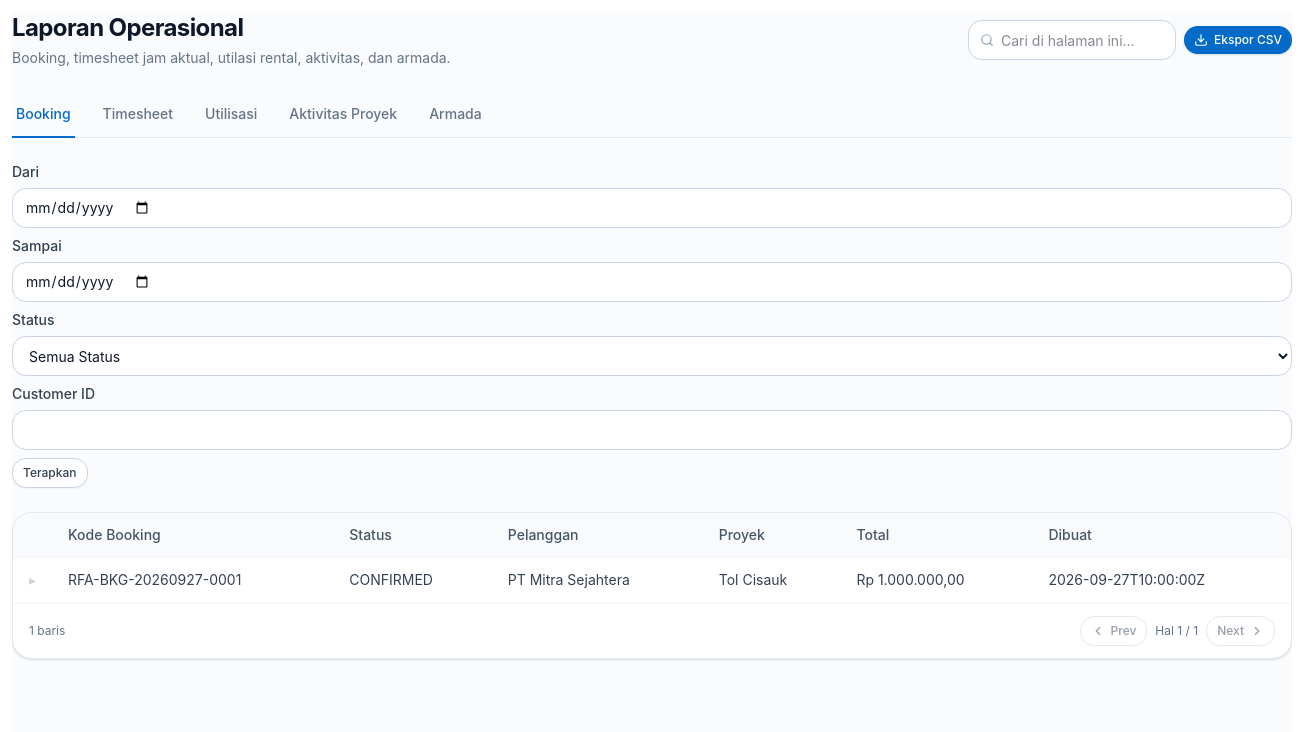
Test: Operational Reports UI › switches tab and shows empty state on empty dataset
Expected: the text "RFA-BKG-20260927-0001" is shown, [52, 558, 333, 602]
Click the tab "Timesheet". click: [138, 115]
box: [99, 92, 177, 138]
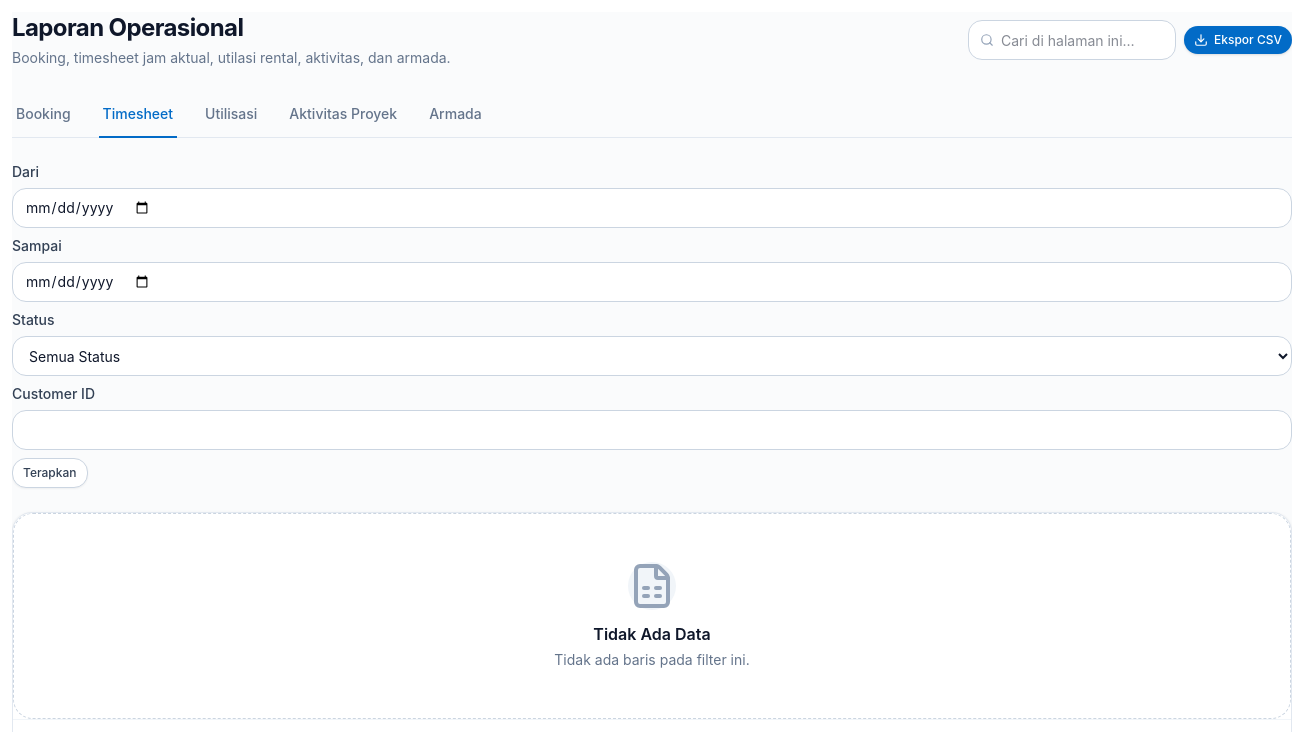
Result: the heading "Tidak Ada Data" is shown at [593, 622, 711, 646]
